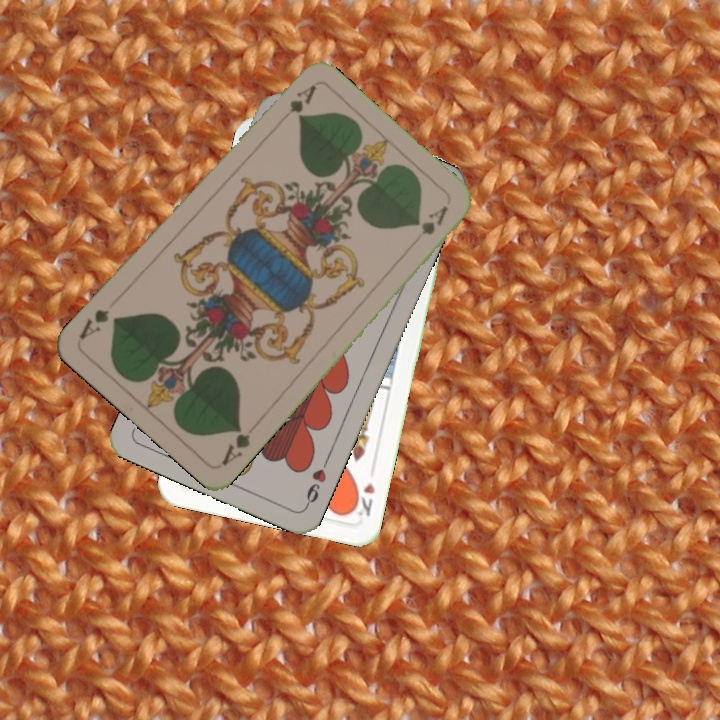GA: (272, 81, 319, 129), (217, 421, 253, 469)
H9: (301, 454, 332, 510)
HK: (348, 479, 378, 519)
